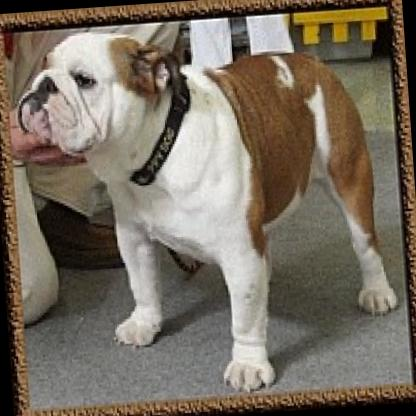French_bulldog: (6, 5, 404, 410)
